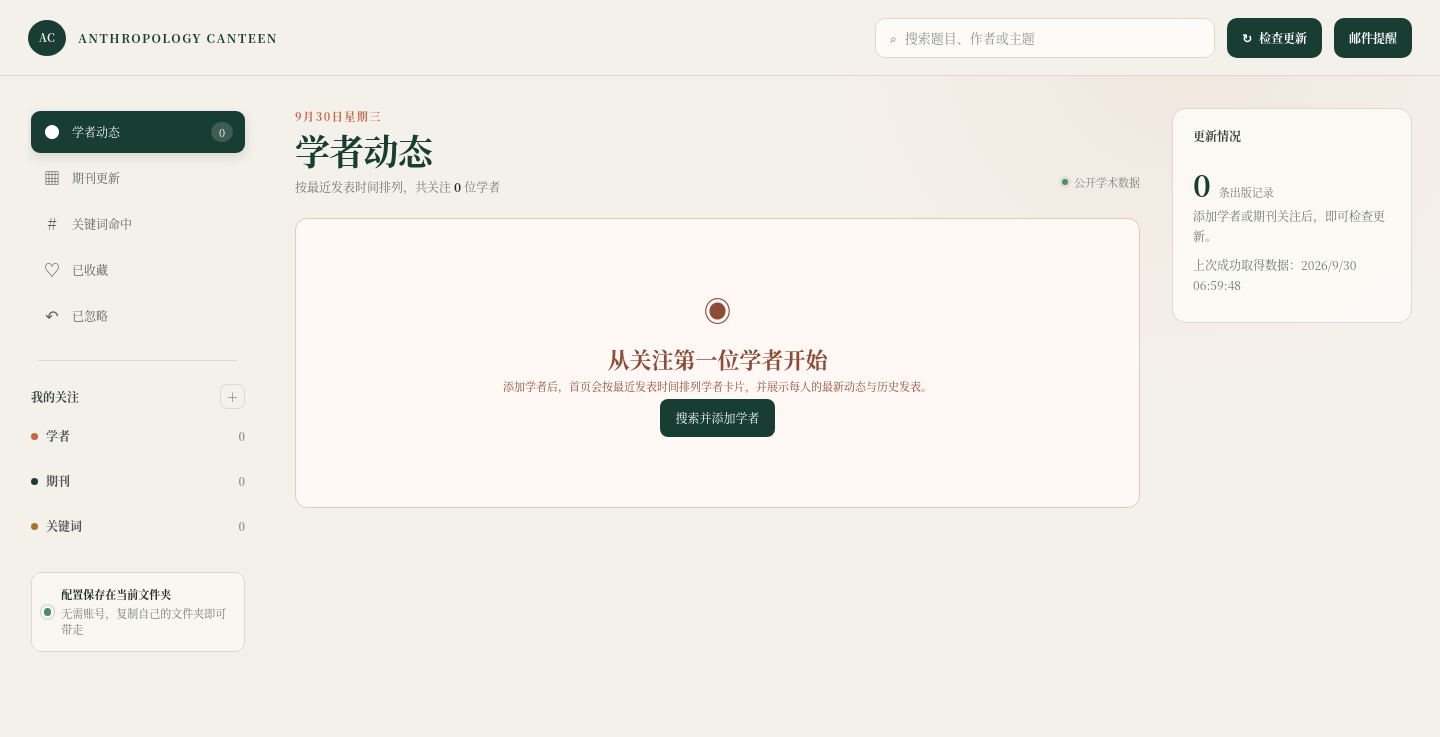
Scenario: Slice C reminder state, accessibility, and narrow layout › live unknown status has truthful label and explicit action
Click the button "邮件提醒".
click(1373, 38)  # box [1334, 18, 1412, 58]
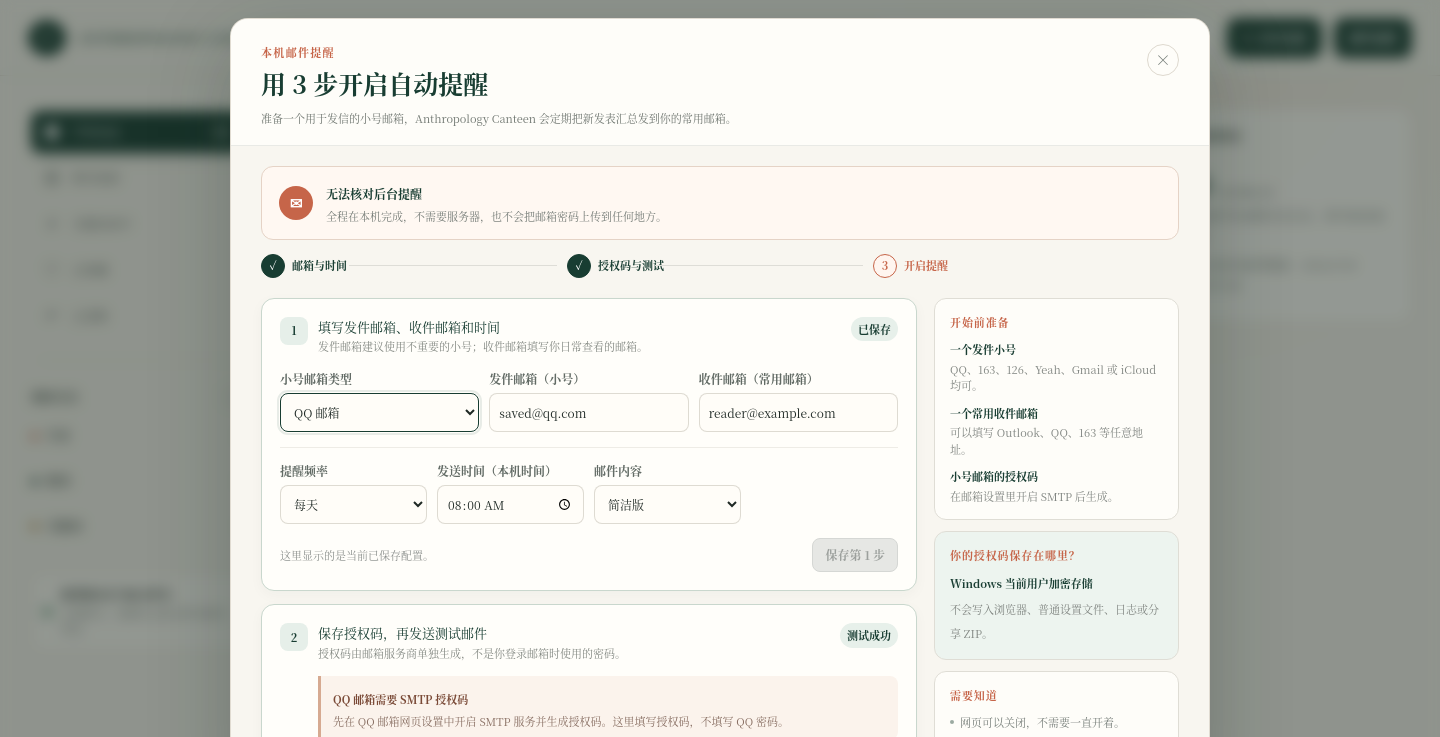
Expected: the text "无法核对后台提醒" is shown, [326, 185, 422, 202]
